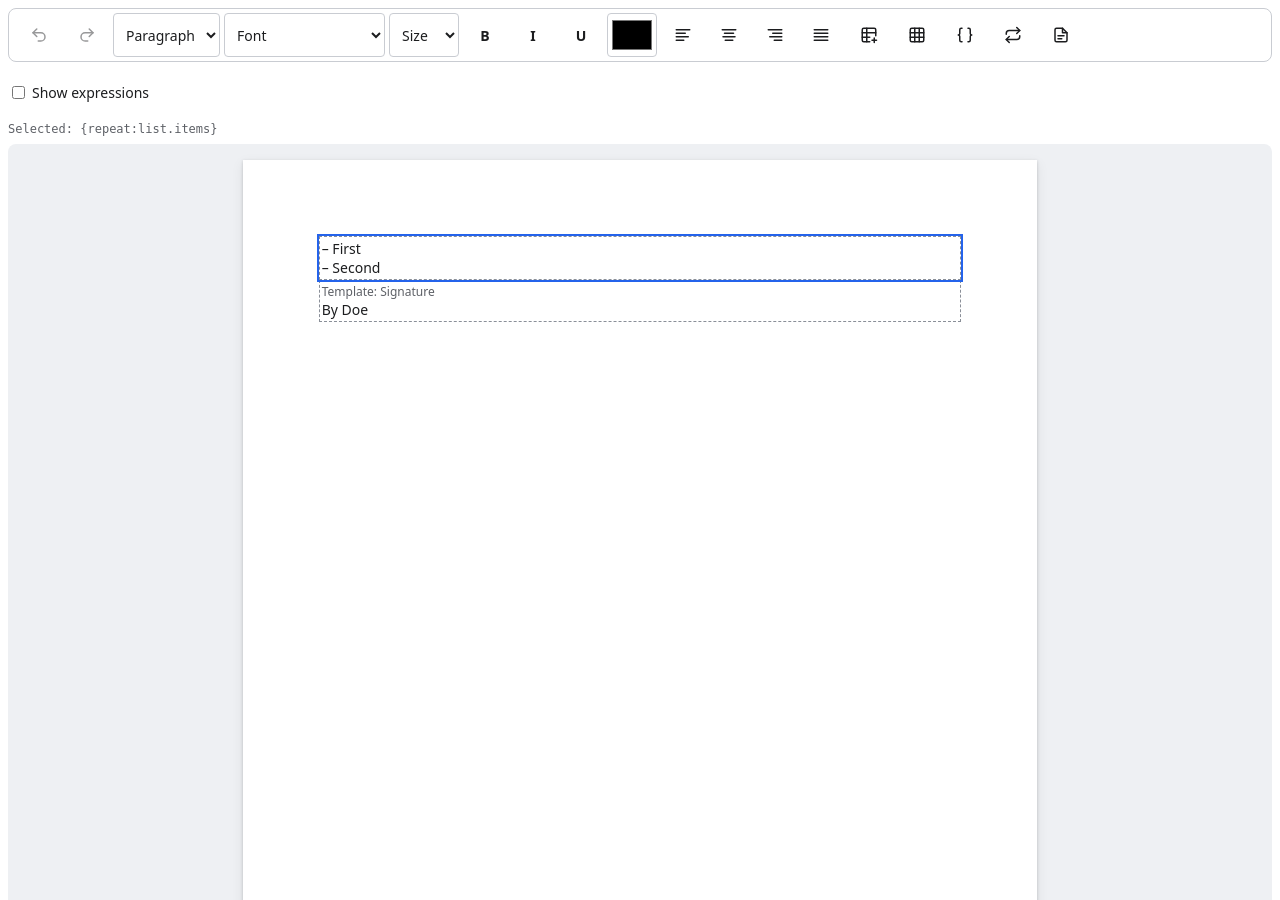
Test: editing an embedded template in place › opens on double-click with the template, its fields shown as placeholders
Check: the element with class "ie-embed" shows "By Doe", box [322, 300, 368, 319]
Double-click the element with class "ie-embed" at {"x": 640, "y": 301}, box [319, 280, 961, 322]
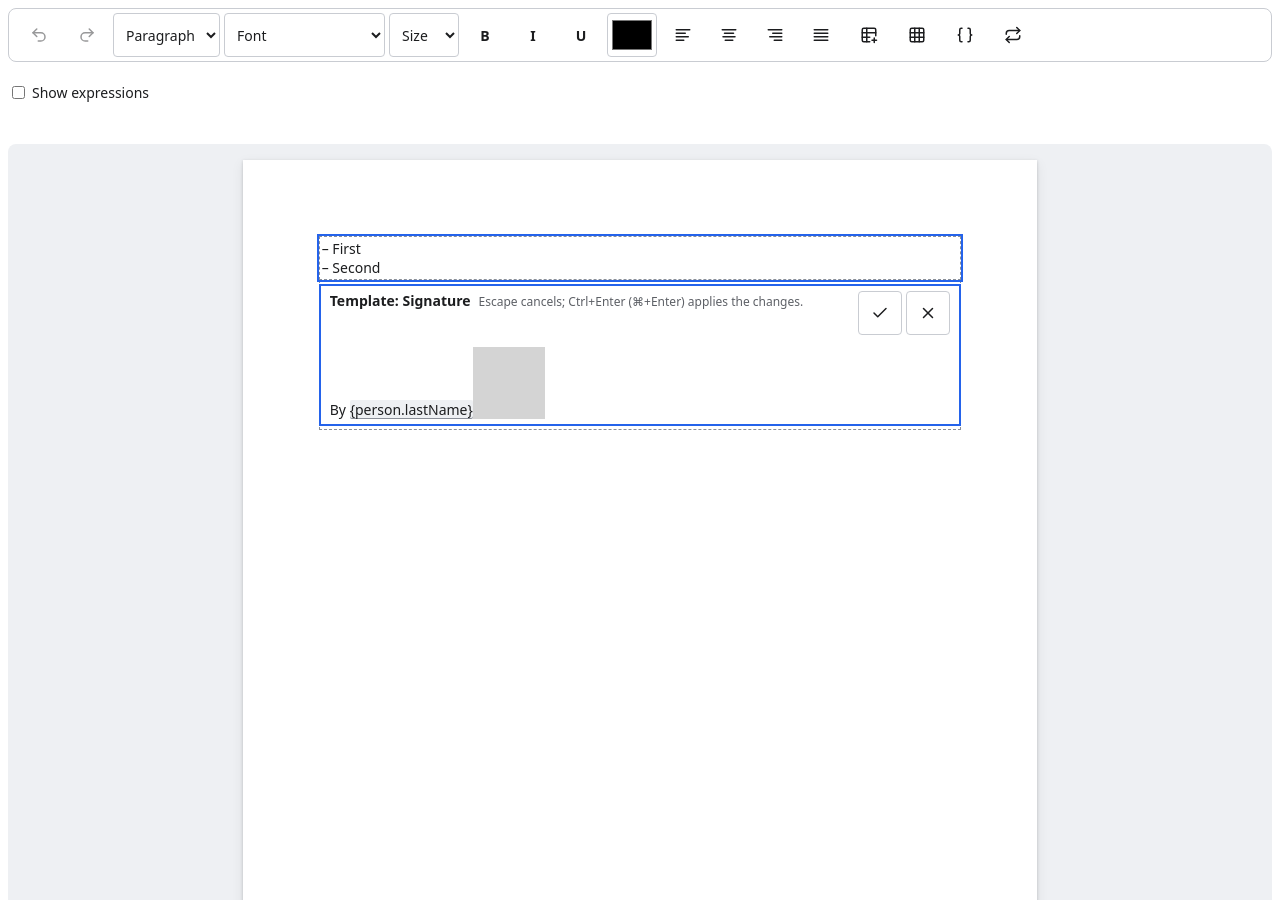
Check: the field named "Template: Signature" reads "By {person.lastName}", box [330, 347, 545, 419]
